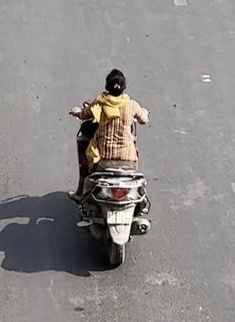BikeWithRider: (62, 64, 157, 270)
NoHelmet: (100, 65, 131, 98)
